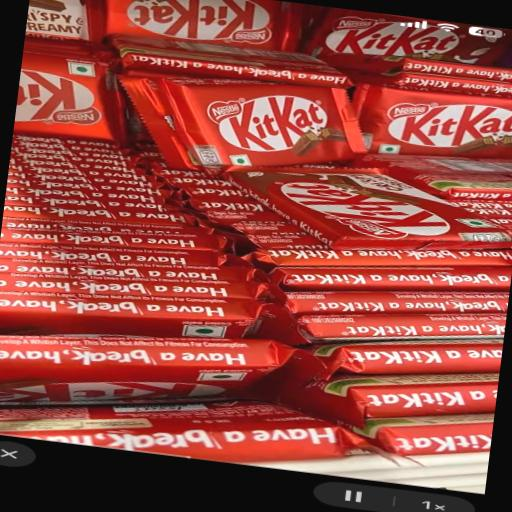kitkat: (107, 53, 406, 201), (0, 316, 286, 442)
